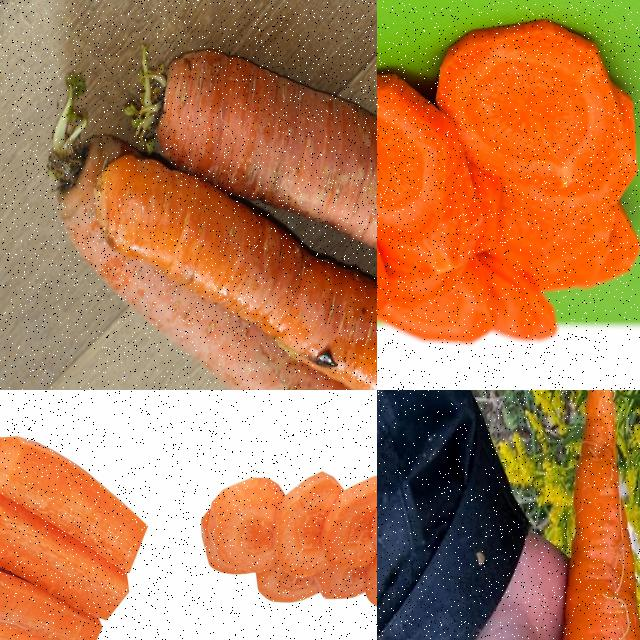carrot: (377, 21, 639, 354), (54, 142, 376, 389), (101, 150, 376, 389), (154, 52, 376, 295), (0, 431, 147, 639), (195, 467, 376, 619), (550, 390, 639, 639)
